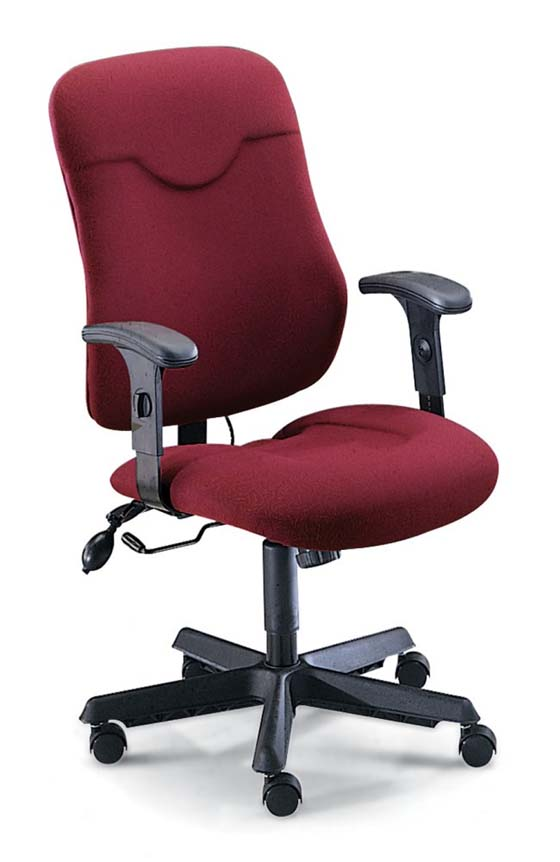chairs: (42, 44, 500, 824)
